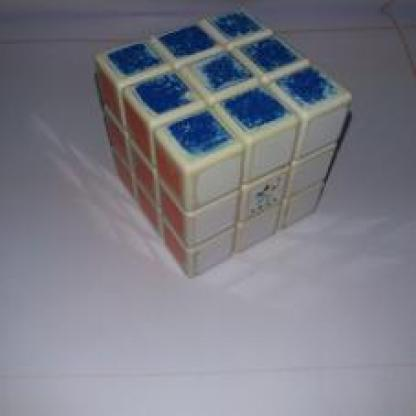cube: (81, 20, 352, 276)
